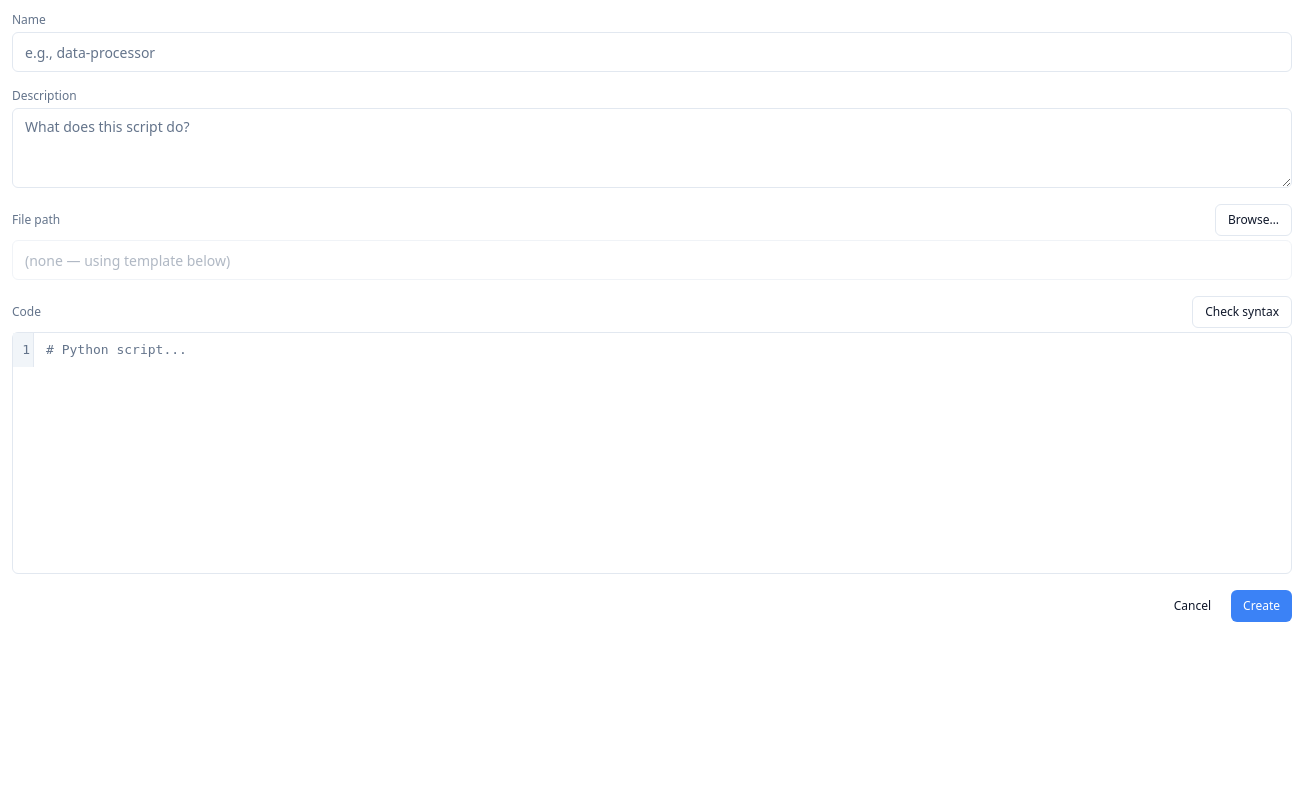
Scenario: PythonScriptForm — Check Syntax › shows error text without line/col when only error field is present
Click the button "Check syntax". click: (1242, 312)
box: left=1192, top=296, right=1292, bottom=328
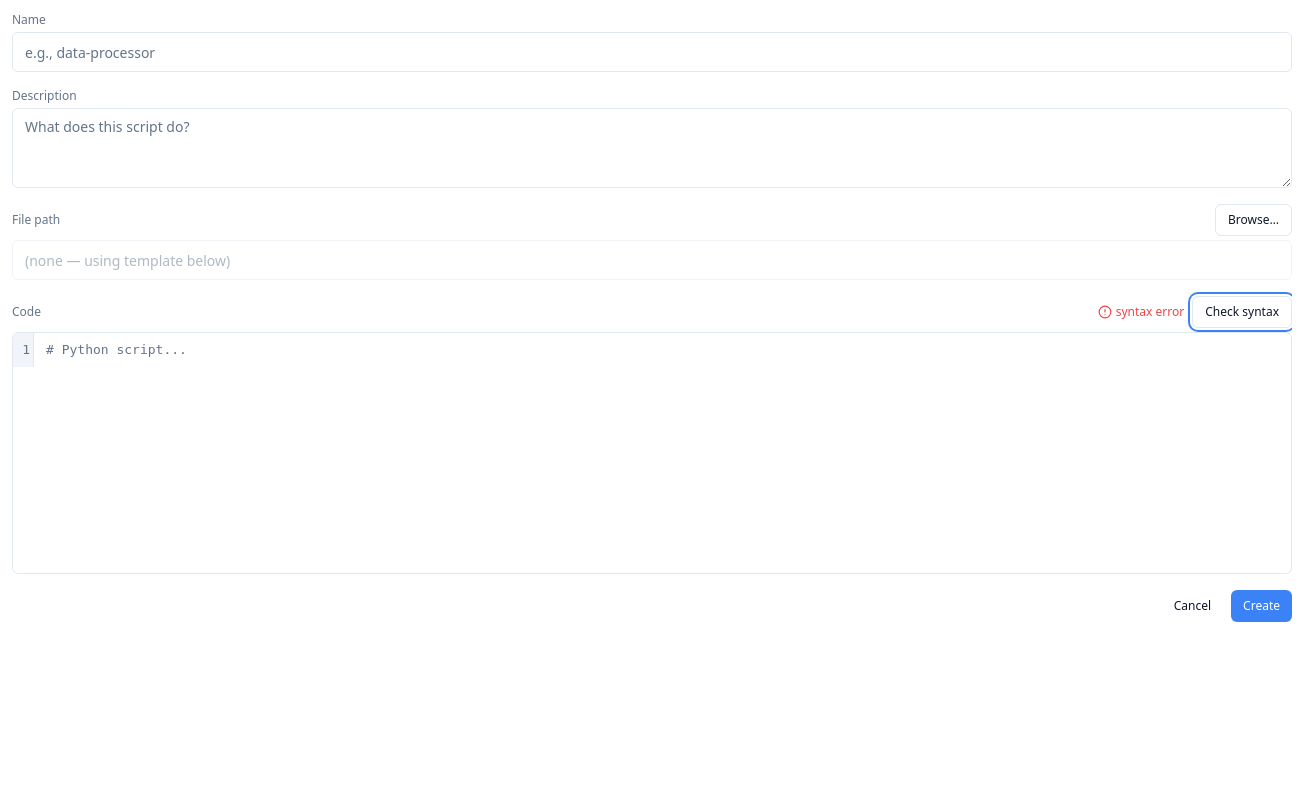
Result: the text "syntax error" is shown at left=1098, top=304, right=1184, bottom=320
